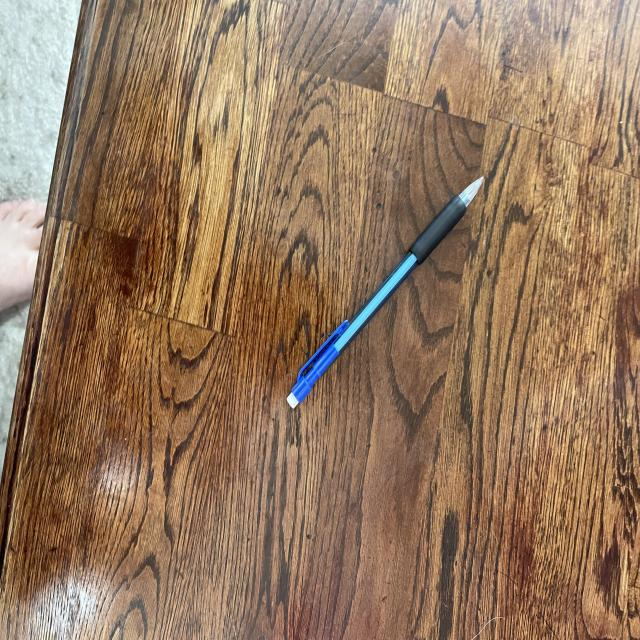mechanical-pencils: (284, 170, 492, 418)
